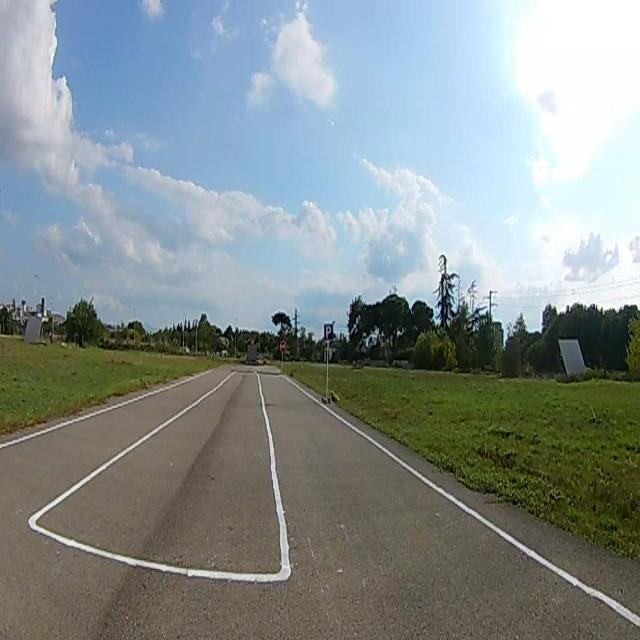park: (324, 324, 332, 337)
